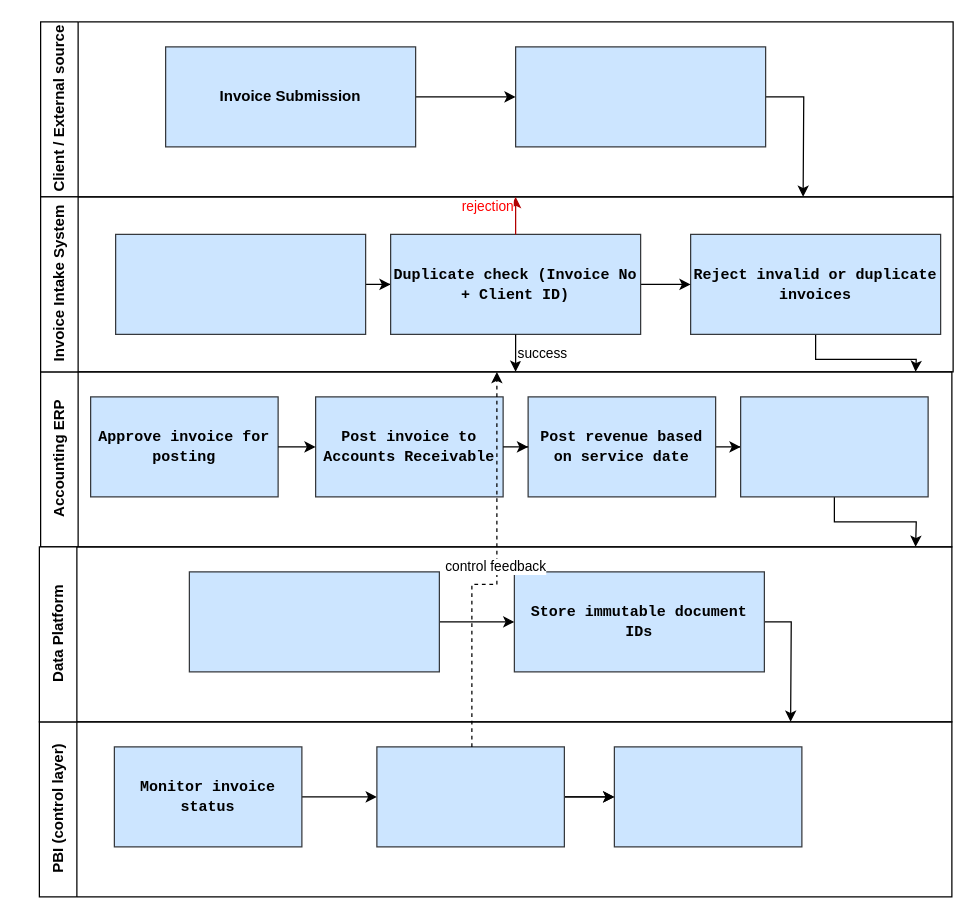
Image size: 975x919. Some labels were removed from this diagram. The centre of each missing label's shape, as x and y in pixels:
"Calculate reconciliation KPIs" goes at [707,796].
"Generate accounting document ID" goes at [833,446].
"Highlight exceptions" goes at [470,796].
"Invoice assigned unique reference ID" goes at [640,96].
"Replicate invoices and accounting entries" goes at [313,621].
"Validate invoice format & mandatory fields" goes at [240,283].
